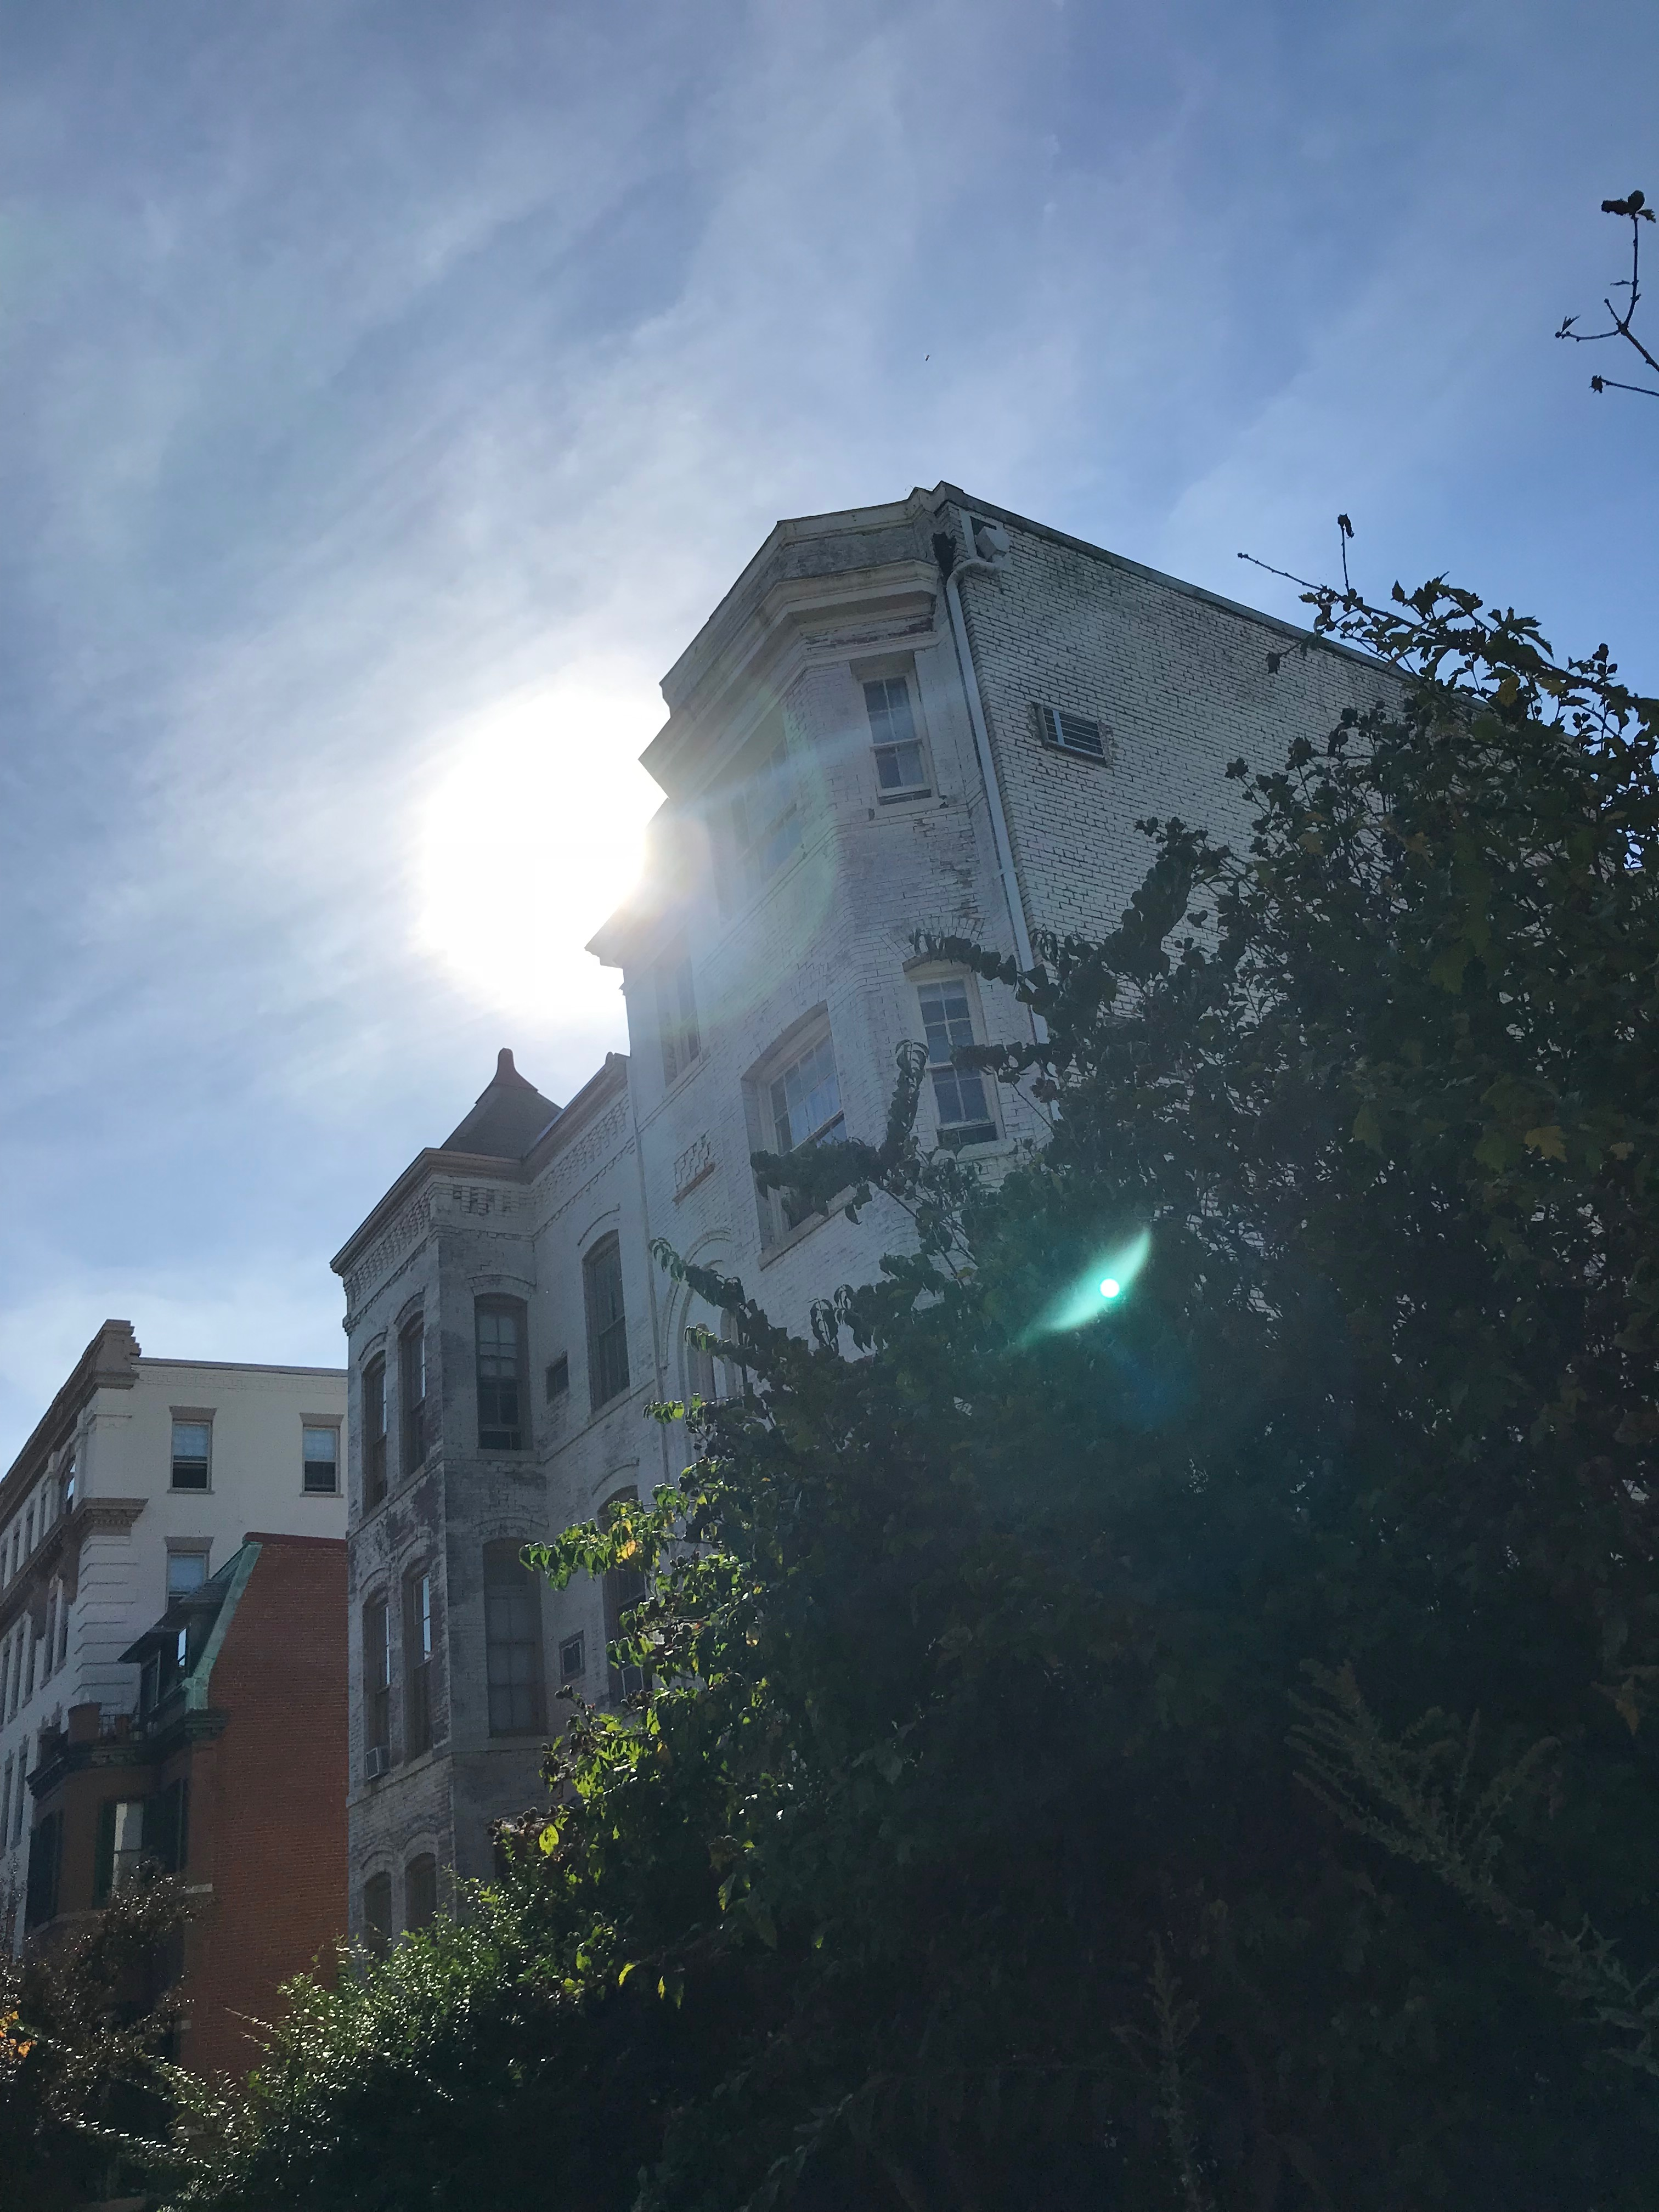flare: (1098, 1277, 1122, 1301)
